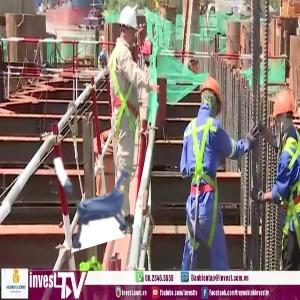drone: (53, 140, 156, 243)
